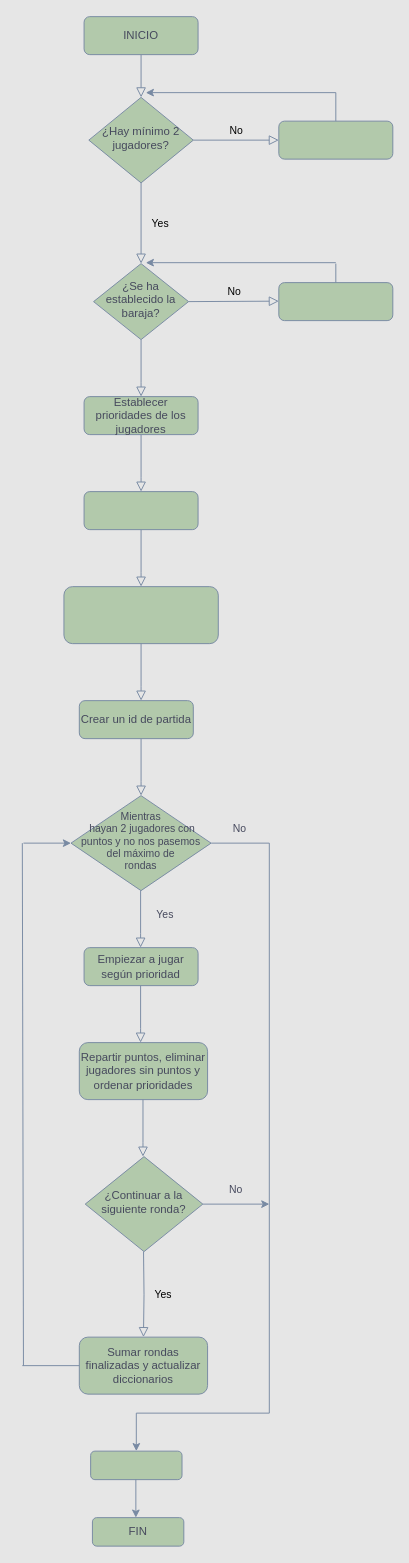
This 409x1563 diagram has some shape labels left out. Each missing label, with the box of its shape:
Crear diccionarios: cardgame, player_game, player_game_round: (63, 586, 218, 644)
Mostrar ganador: (90, 1450, 182, 1480)
Pedir que establezca la baraja: (278, 282, 393, 321)
Pedir que seleccione jugadores: (278, 120, 393, 159)
Resetear puntos: (83, 491, 198, 530)
